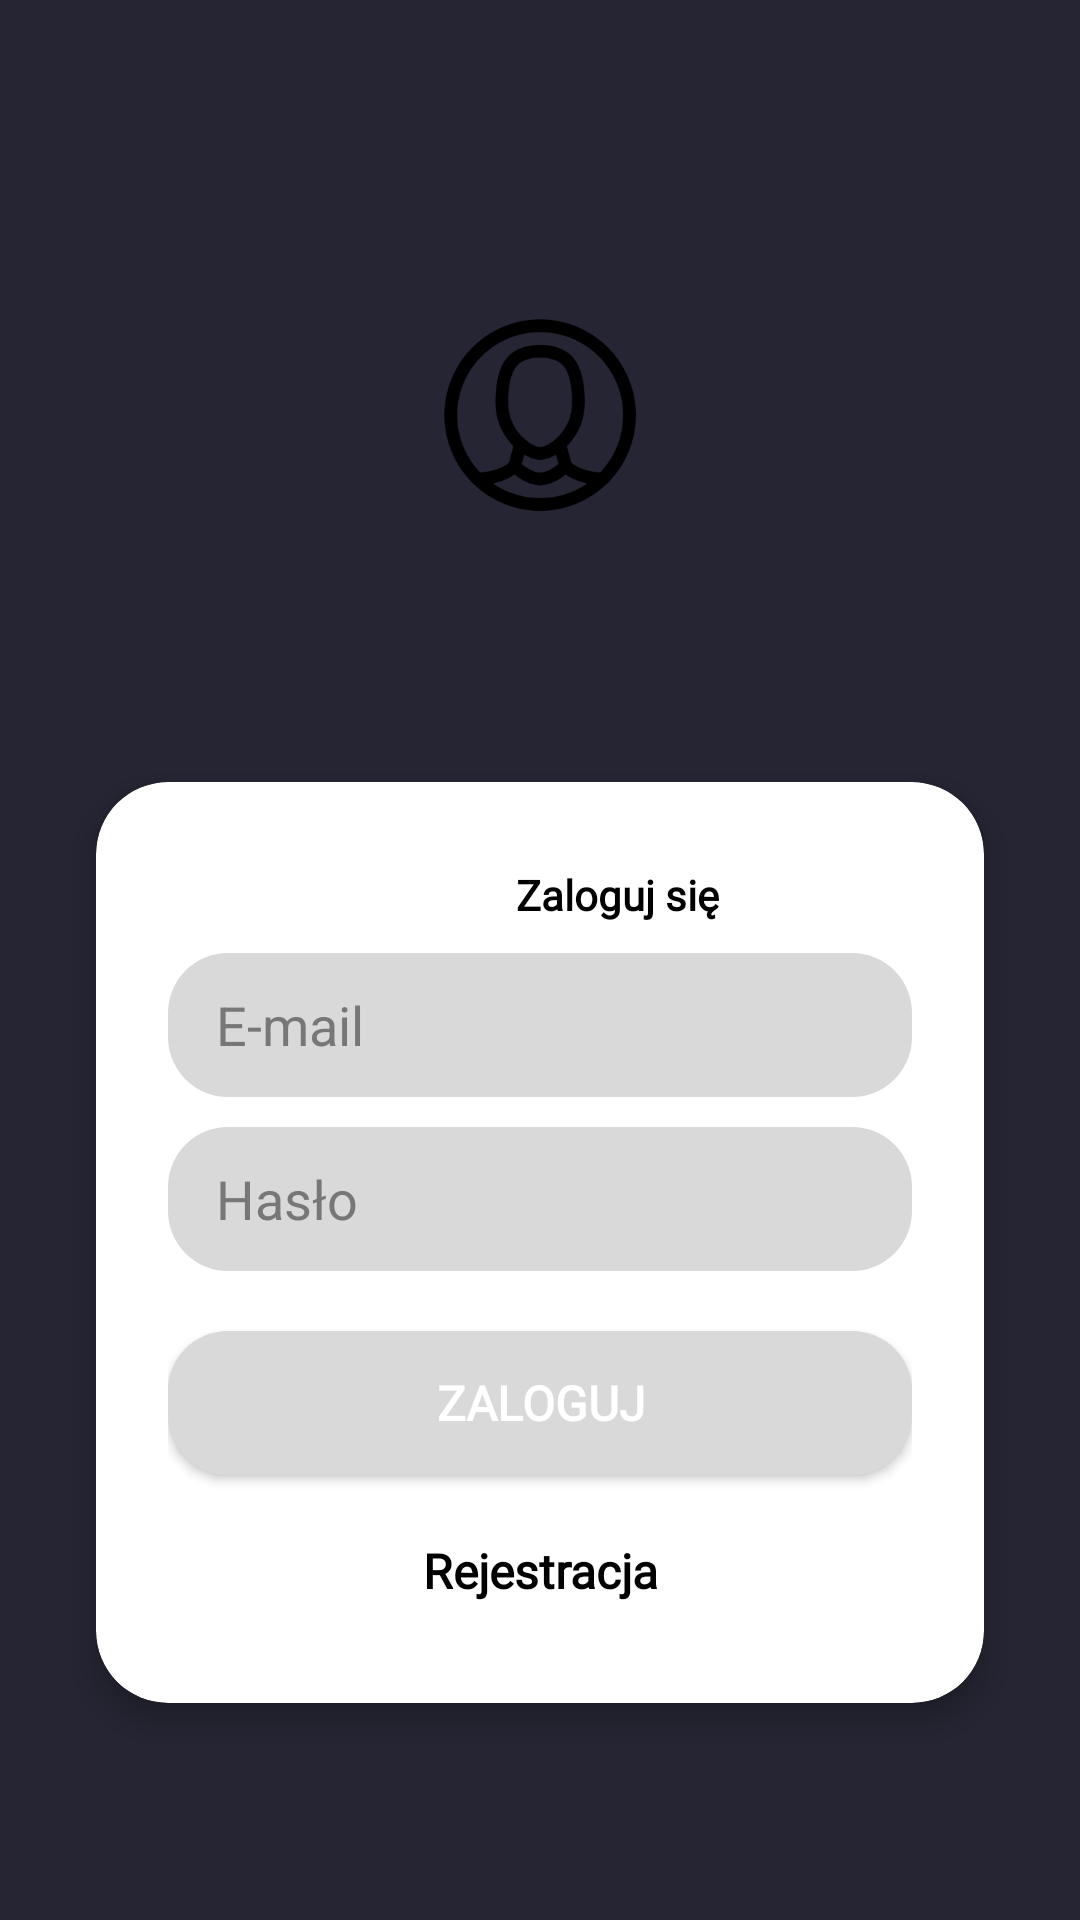

Locate icon controls on the screen. Image size 1080x1920, boxes as (x1, y1, x2, y2).
portrait: (444, 319, 636, 511)
